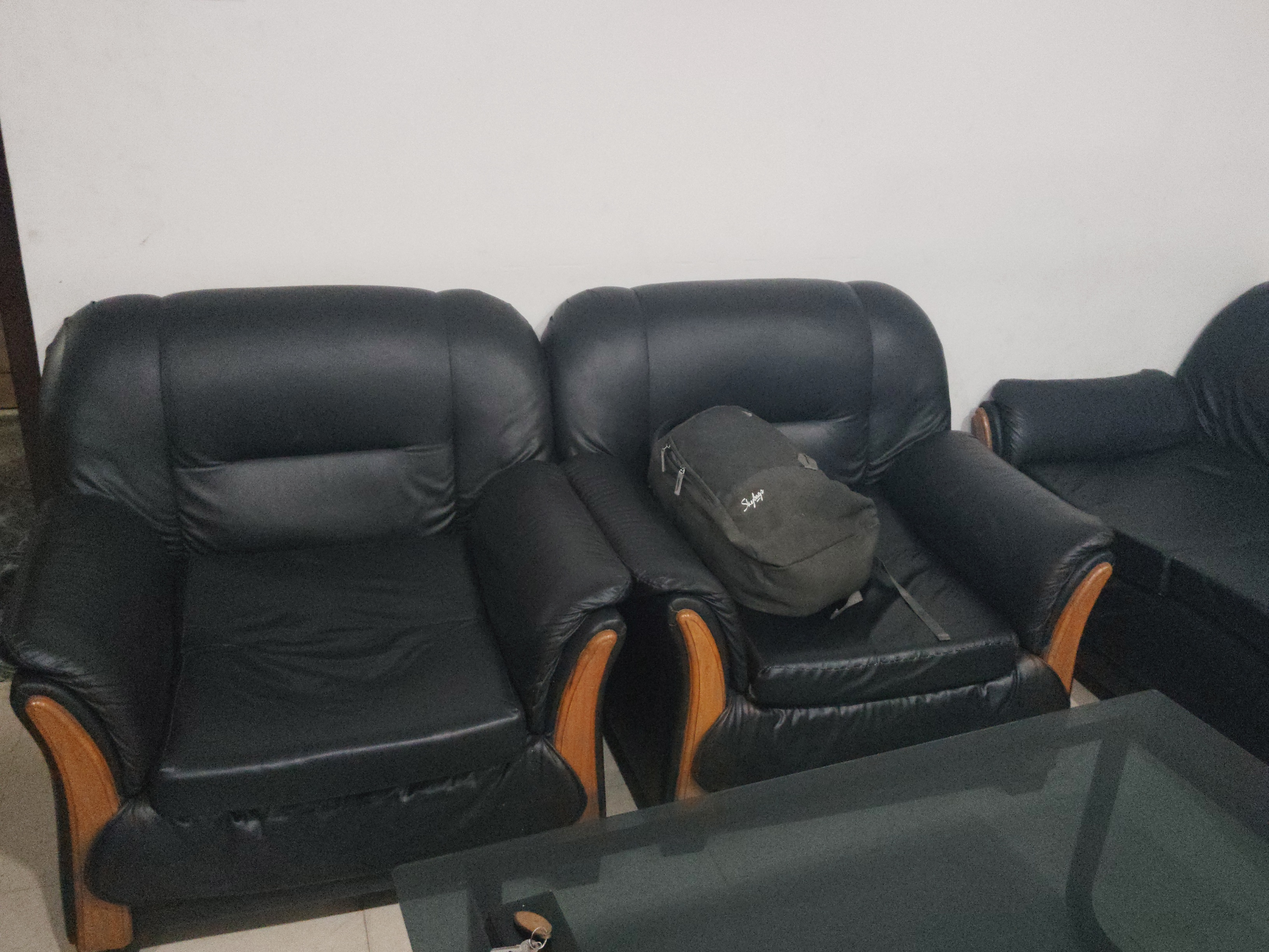sofa: (0, 283, 635, 952), (547, 278, 1122, 809), (974, 281, 1269, 792)
table: (393, 689, 1269, 952)
